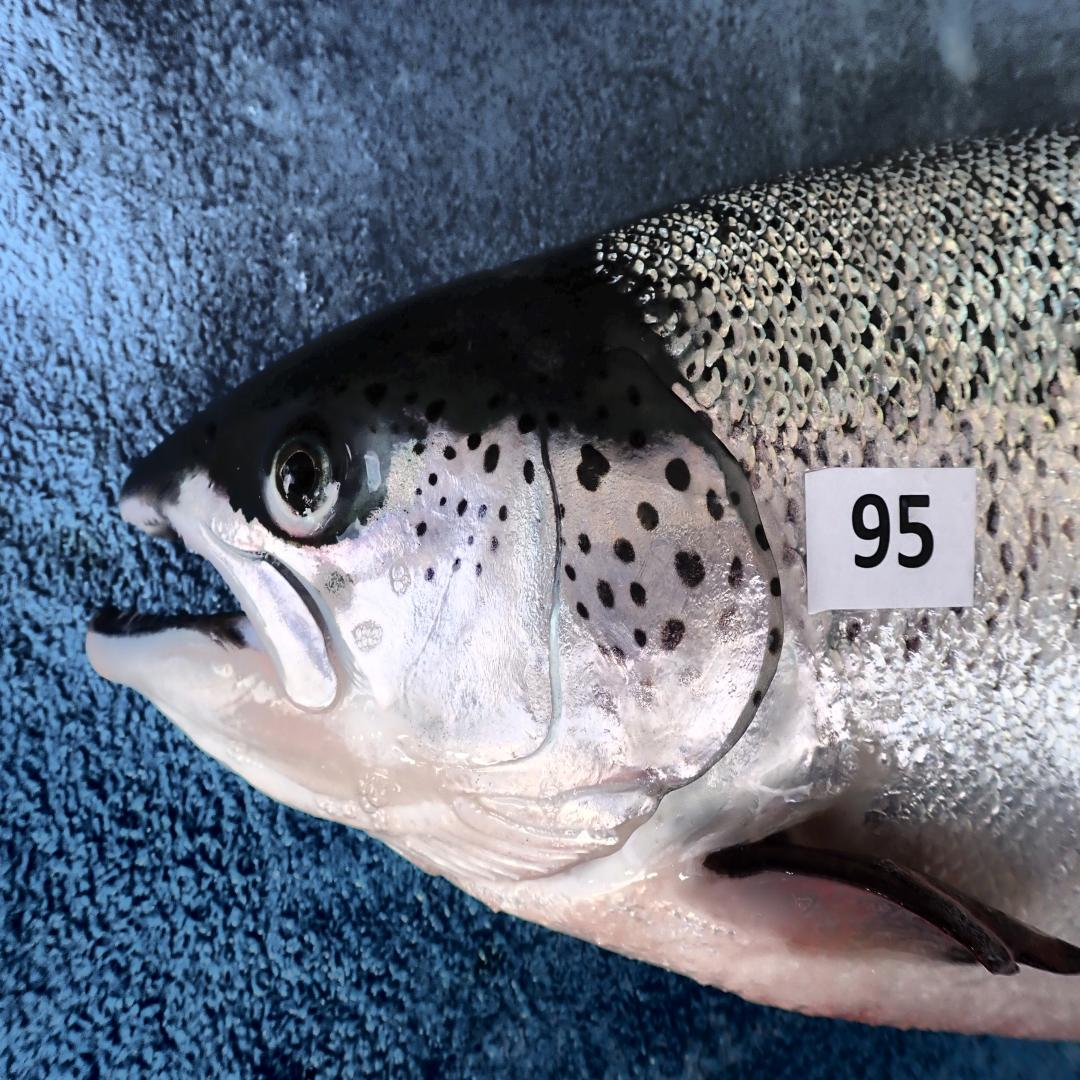spot: (576, 444, 610, 492), (675, 551, 705, 588), (664, 458, 690, 492), (660, 619, 686, 650), (637, 501, 658, 532), (707, 489, 724, 520), (728, 557, 745, 588), (614, 537, 635, 562), (597, 579, 614, 608), (483, 444, 500, 472), (755, 523, 770, 551), (631, 582, 645, 608), (768, 627, 780, 655), (523, 458, 534, 484), (578, 534, 591, 554), (466, 433, 481, 450), (751, 690, 764, 708), (576, 602, 589, 619), (635, 627, 645, 647), (457, 498, 467, 517), (770, 577, 780, 596), (565, 565, 576, 582), (443, 444, 456, 458), (413, 442, 426, 456), (416, 522, 427, 537), (730, 492, 740, 506), (428, 472, 437, 487), (424, 568, 434, 581), (479, 503, 487, 518), (453, 558, 461, 573), (500, 506, 508, 520), (491, 537, 498, 551), (475, 563, 482, 576), (559, 503, 565, 518), (468, 535, 474, 547), (416, 488, 423, 496), (440, 497, 446, 506)
